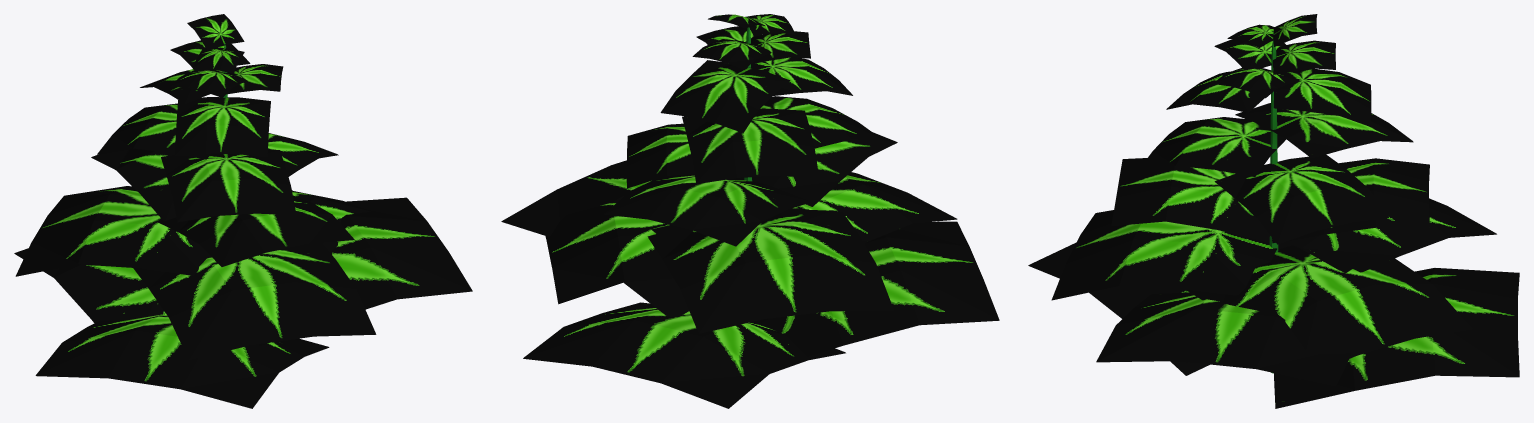
File: NaturalPlant.fbx
The picture shows the model from 3 angles, left to right: view 1: azimuth 30°, elevation 25°; view 2: azimuth 150°, elevation 25°; view 3: azimuth 270°, elevation 25°; orthographic projection. The views are drawn at different scales.
Visible parts, largest first — view 1: Plane#2; view 2: Plane#2; view 3: Plane#2.
Part boxes in pixels (<box>): Plane#2: <box>14,14,472,408</box>; Plane#2: <box>501,14,999,408</box>; Plane#2: <box>1028,14,1519,408</box>.
Bounding box in the file's own units: 1.97 × 1.44 × 1.84.
2 materials, 2 textured.
